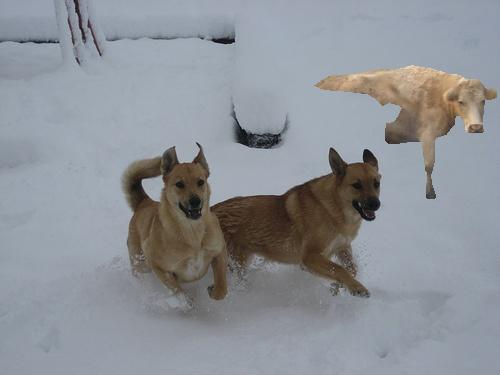tampered: (315, 66, 497, 199)
